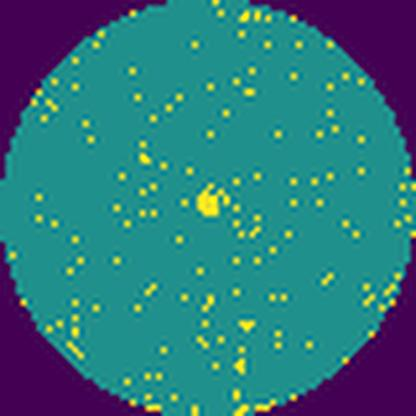Center: (196, 182, 225, 221)
